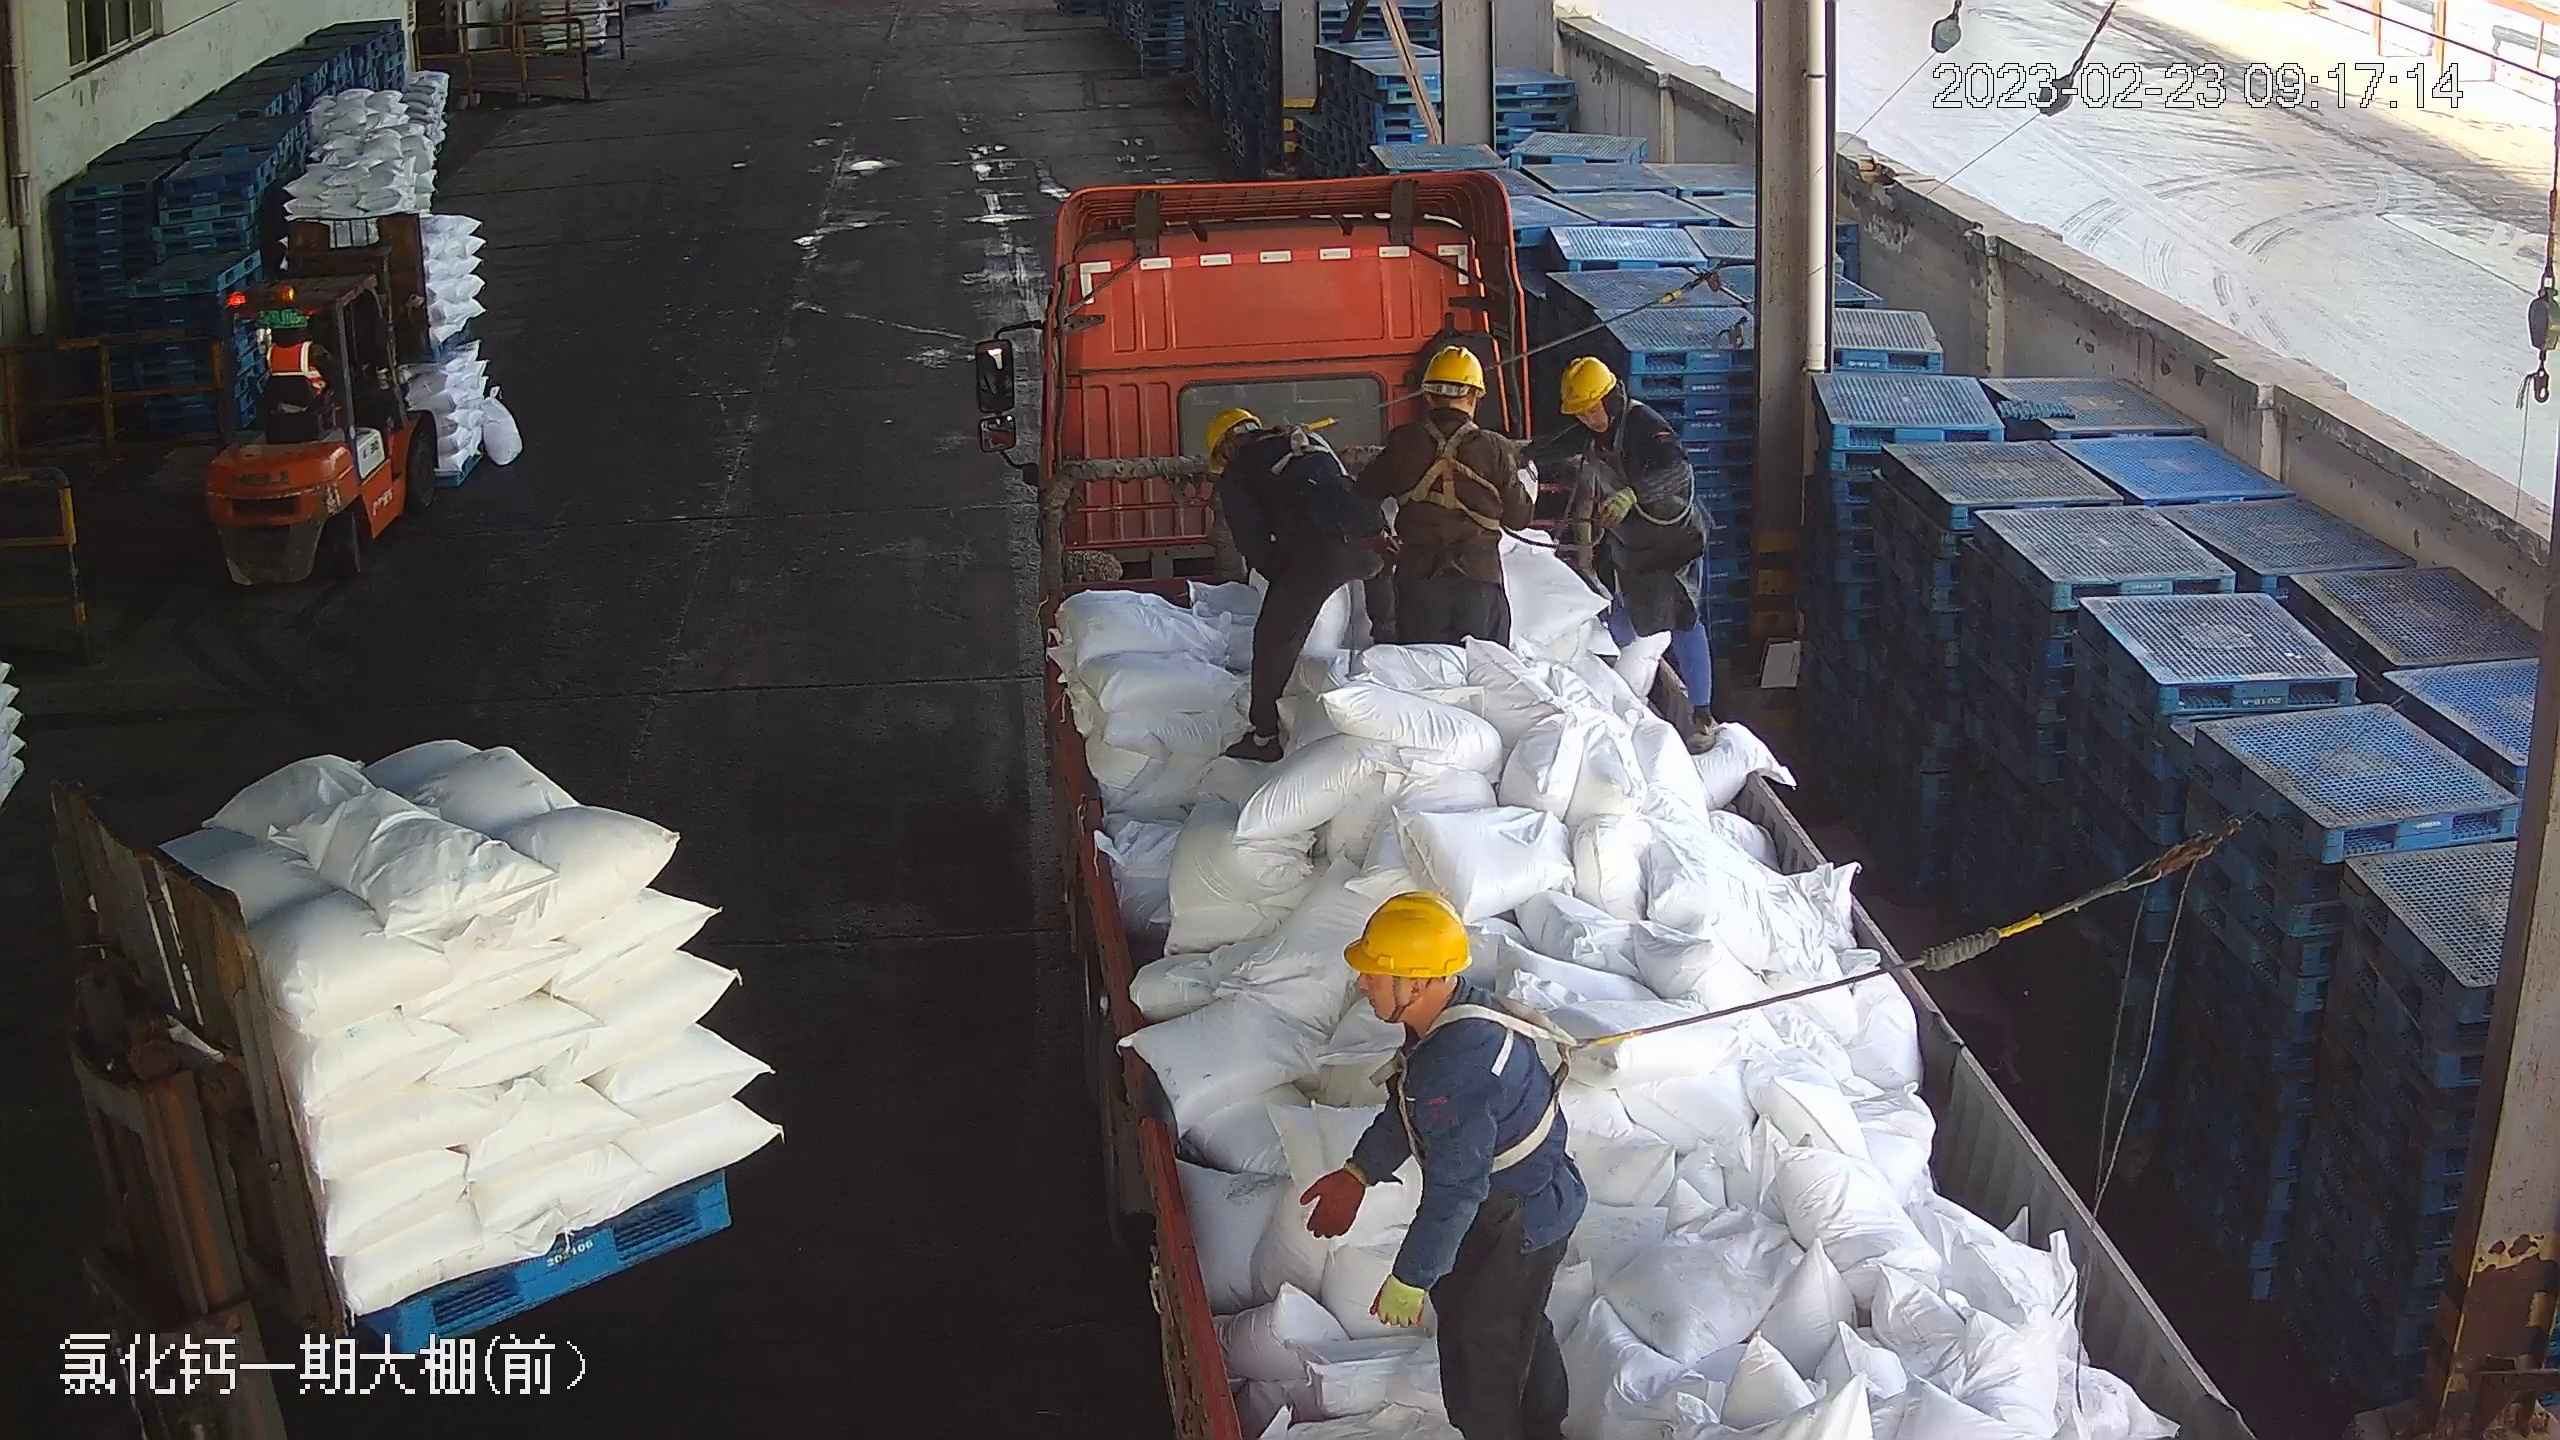belt: (1428, 998, 1647, 1172), (1404, 417, 1499, 519), (1258, 424, 1332, 492), (1585, 403, 1633, 464)
head: (1335, 892, 1529, 1113), (1387, 345, 1513, 478), (1553, 356, 1670, 466), (1200, 407, 1327, 498)
helmet: (1339, 889, 1474, 977), (1554, 353, 1617, 414), (1200, 405, 1263, 461), (1417, 342, 1489, 391)
people: (1300, 893, 1589, 1436), (1551, 351, 1744, 760), (1192, 400, 1379, 767), (1367, 351, 1531, 667)
truck: (969, 170, 2267, 1432)
